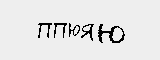П: (37, 19, 53, 40), (51, 19, 66, 39)
Ю: (98, 22, 124, 44), (68, 20, 79, 38)
Я: (81, 19, 93, 40)
